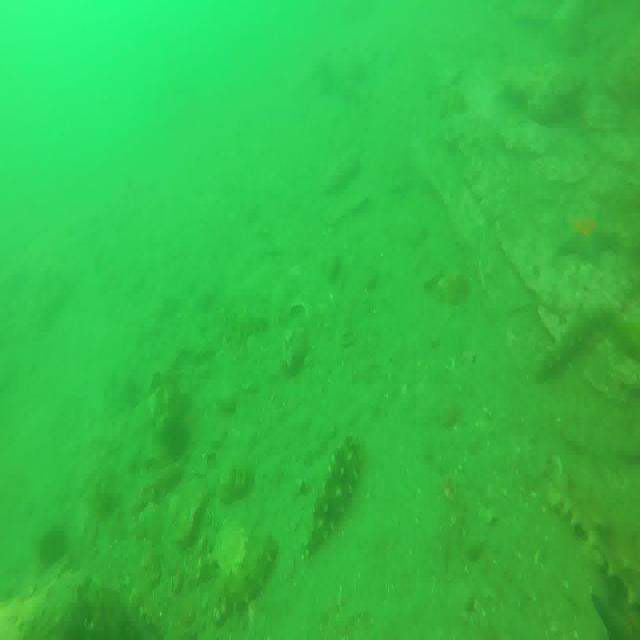echinus: (39, 521, 75, 563), (166, 412, 192, 457)
holothurian: (553, 465, 640, 602), (532, 292, 622, 385), (304, 433, 361, 554), (212, 533, 280, 617)
starfish: (557, 211, 620, 267)
